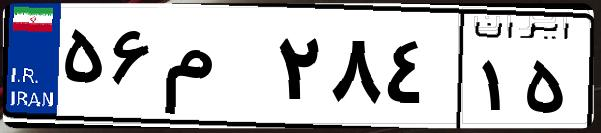1: (475, 38, 525, 113)
2: (270, 28, 330, 110)
4: (385, 28, 445, 110)
5: (57, 26, 110, 100), (525, 38, 570, 115)
6: (110, 28, 158, 98)
8: (330, 28, 385, 110)
م: (158, 20, 270, 120)
